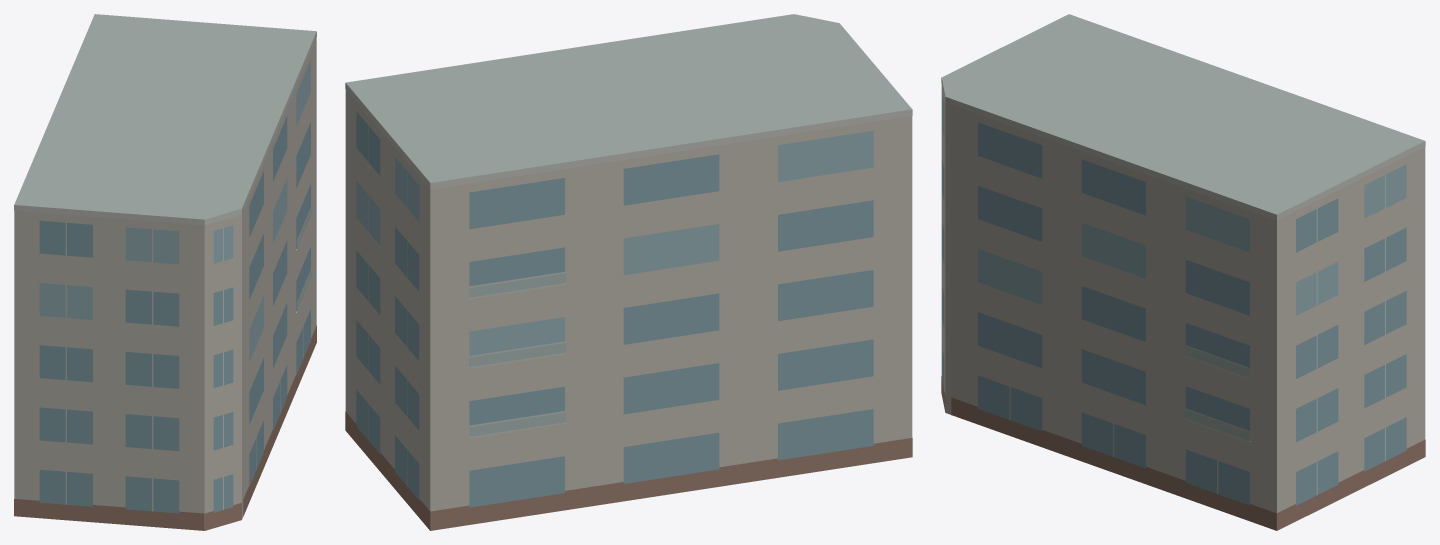
File: survey-upis-32610469.glb
The picture shows the model from 3 angles, left to right: view 1: azimuth 30°, elevation 25°; view 2: azimuth 150°, elevation 25°; view 3: azimuth 270°, elevation 25°; orthographic projection. The views are drawn at different scales.
Parts seen in each view (by area): view 1: survey-upis-32610469.tmp; view 2: survey-upis-32610469.tmp; view 3: survey-upis-32610469.tmp.
Boxes of the visible parts, x1=… form: survey-upis-32610469.tmp: x1=14, y1=14, x2=316, y2=530; survey-upis-32610469.tmp: x1=345, y1=14, x2=912, y2=530; survey-upis-32610469.tmp: x1=941, y1=14, x2=1425, y2=530.
Bounding box in the file's own units: 17.71 × 13 × 18.04.
